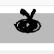not correct: (13, 8, 43, 34)
